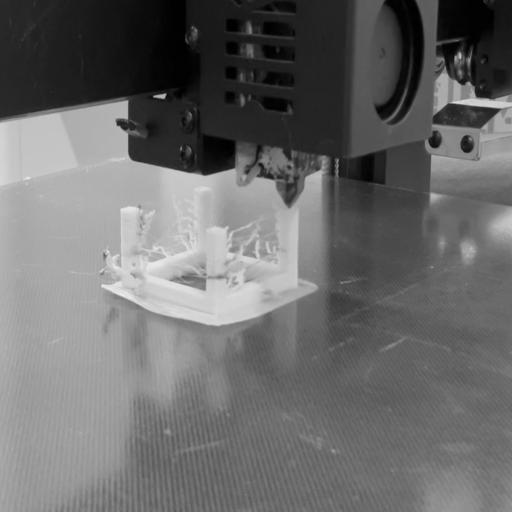spaghetti_and_stringing: (99, 206, 297, 284)
warp: (99, 283, 209, 329)
